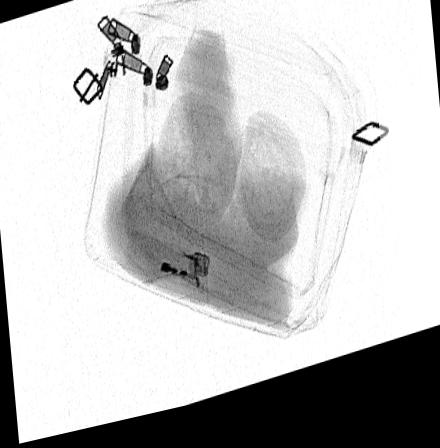Lighter: (186, 257, 295, 335)
